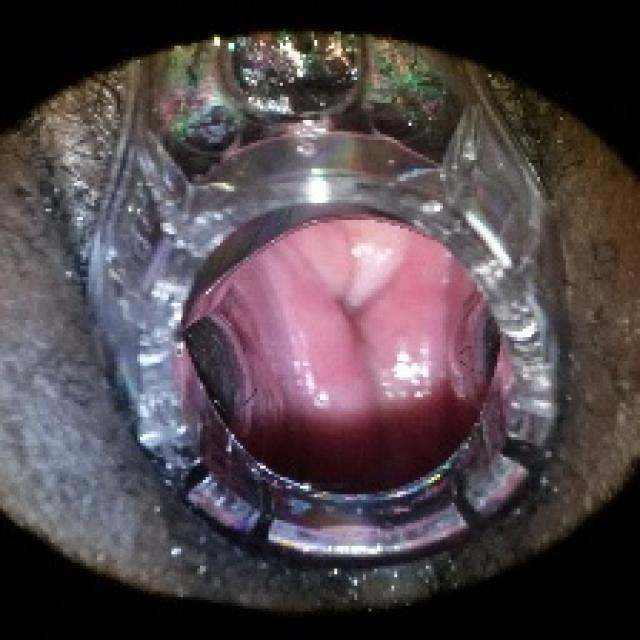type-3: (28, 44, 636, 626)
